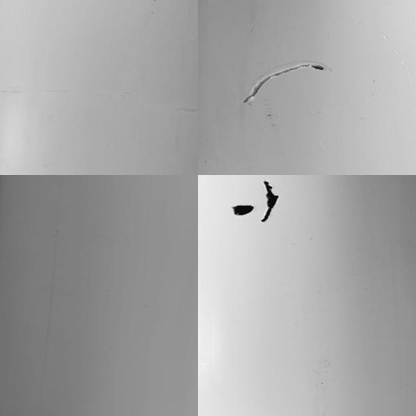fengxi: (241, 62, 332, 108)
kongdong: (262, 179, 281, 228), (229, 202, 256, 220)
